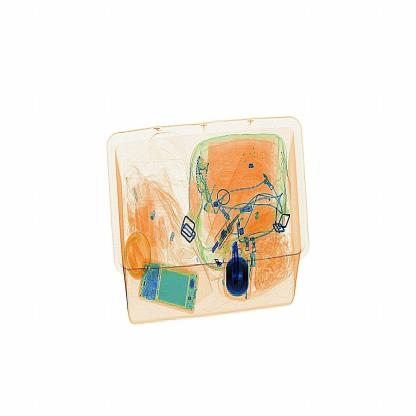knife: (224, 235, 254, 287)
